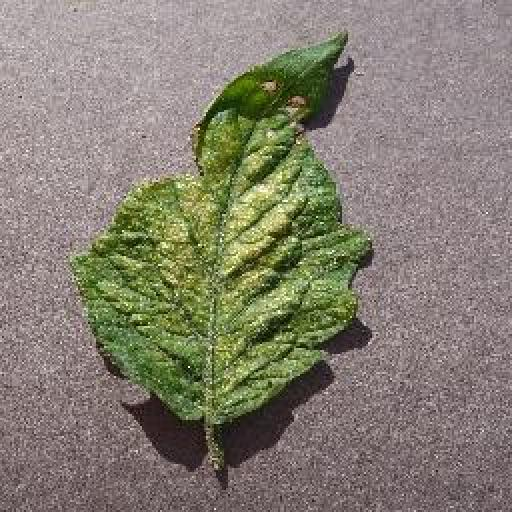Spider Mites: (69, 30, 371, 422)
